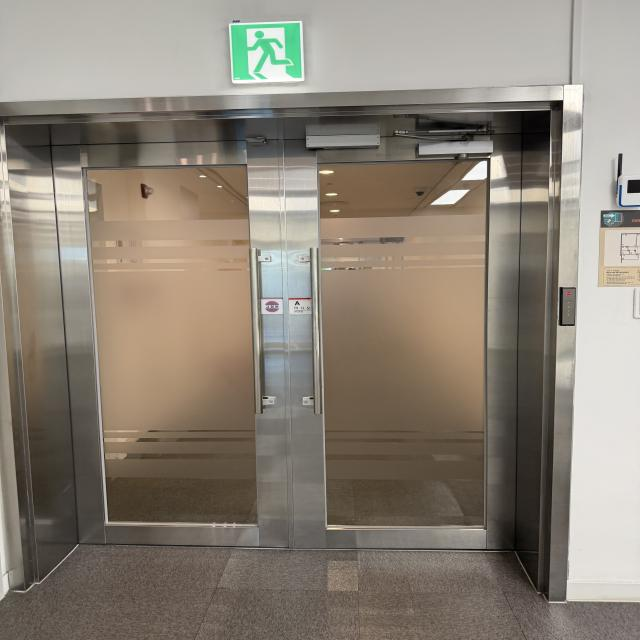rear_door: (47, 114, 522, 550)
